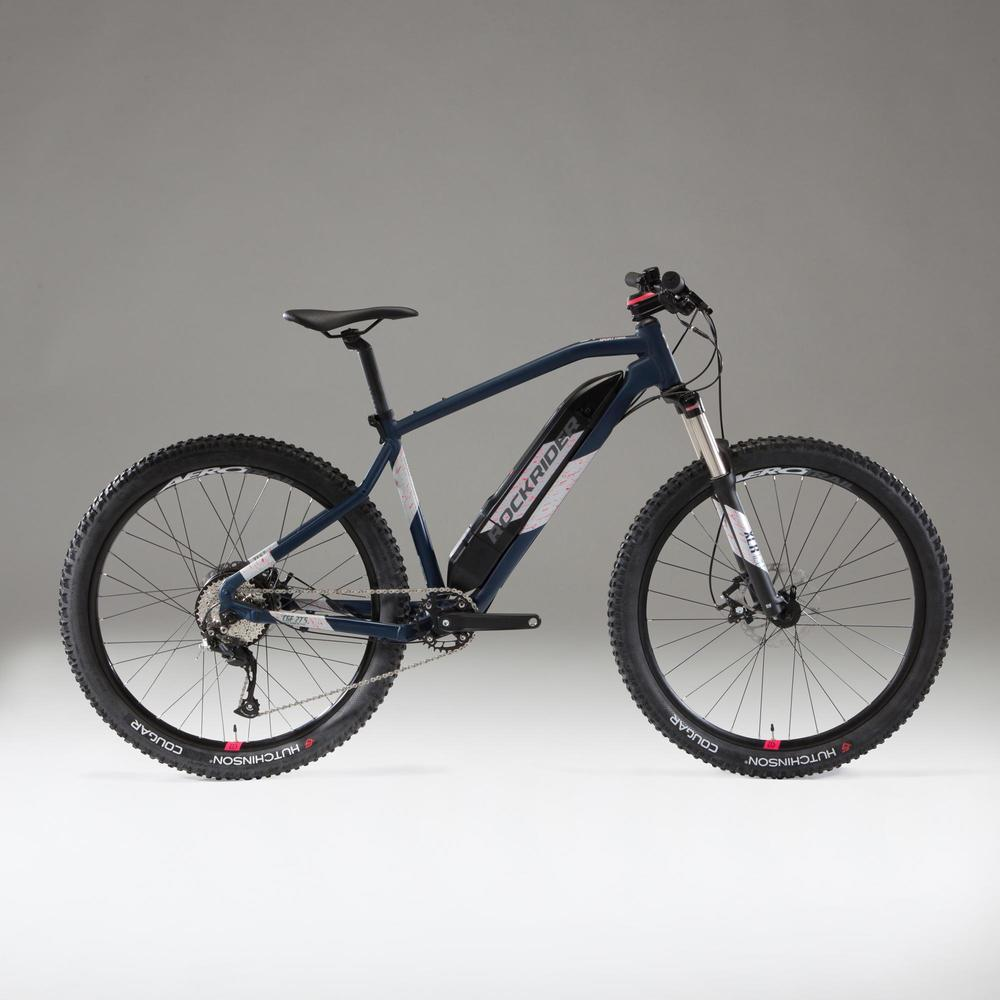MountainBike: (49, 264, 949, 791)
